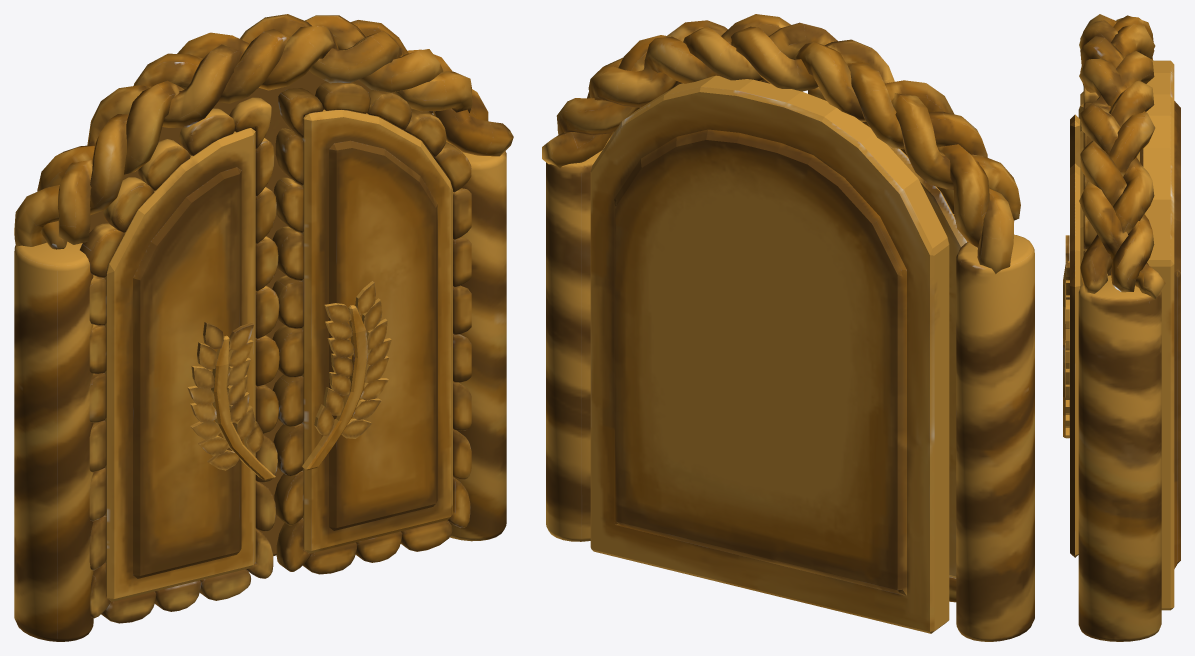
Rendered from PantryGateAnimated.fbx.
The picture shows the model from 3 angles, left to right: view 1: azimuth 30°, elevation 25°; view 2: azimuth 150°, elevation 25°; view 3: azimuth 270°, elevation 25°; orthographic projection. The views are drawn at different scales.
Visible parts, largest first — view 1: DoorR, DoorL, TwistBread, Cylinder, Ridges.001, Ridges, Cylinder.001, Wheat Leaves.001, Wheat Leaves, Back, Handle.001, Handle; view 2: Back, TwistBread, Cylinder, Cylinder.001, DoorR; view 3: Cylinder.001, TwistBread, Back, DoorL, Wheat Leaves.001, DoorR, Ridges.001, Handle.001, Wheat Leaves, Handle.
Boxes of the visible parts, <box> form: DoorR: <box>104,128,255,601</box>; DoorL: <box>294,109,452,553</box>; TwistBread: <box>14,14,513,249</box>; Cylinder: <box>14,241,93,641</box>; Ridges.001: <box>272,81,471,574</box>; Ridges: <box>80,97,279,623</box>; Cylinder.001: <box>449,151,506,541</box>; Wheat Leaves.001: <box>314,281,391,438</box>; Wheat Leaves: <box>187,322,264,470</box>; Back: <box>89,71,371,555</box>; Handle.001: <box>302,305,368,470</box>; Handle: <box>211,335,275,480</box>; Back: <box>590,75,949,633</box>; TwistBread: <box>542,14,1020,273</box>; Cylinder: <box>956,234,1034,641</box>; Cylinder.001: <box>546,138,609,541</box>; DoorR: <box>868,126,967,578</box>; Cylinder.001: <box>1078,275,1161,641</box>; TwistBread: <box>1079,14,1165,299</box>; Back: <box>1140,60,1180,610</box>; DoorL: <box>1070,130,1107,557</box>; Wheat Leaves.001: <box>1065,299,1069,438</box>; DoorR: <box>1070,91,1083,167</box>; Ridges.001: <box>1083,102,1097,254</box>; Handle.001: <box>1063,317,1069,437</box>; Wheat Leaves: <box>1065,235,1069,299</box>; Handle: <box>1063,261,1069,339</box>.
Bounding box in the file's own units: 803 × 885 × 190.
Materials: 12 (12 with a texture image).
